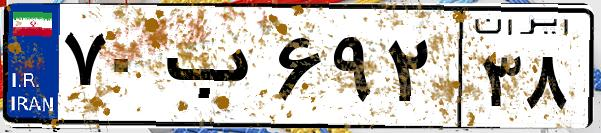0: (110, 28, 158, 98)
2: (385, 28, 445, 110)
3: (475, 38, 525, 113)
6: (270, 28, 330, 110)
7: (57, 26, 110, 100)
8: (525, 38, 570, 115)
9: (330, 28, 385, 110)
ب: (158, 20, 270, 120)
